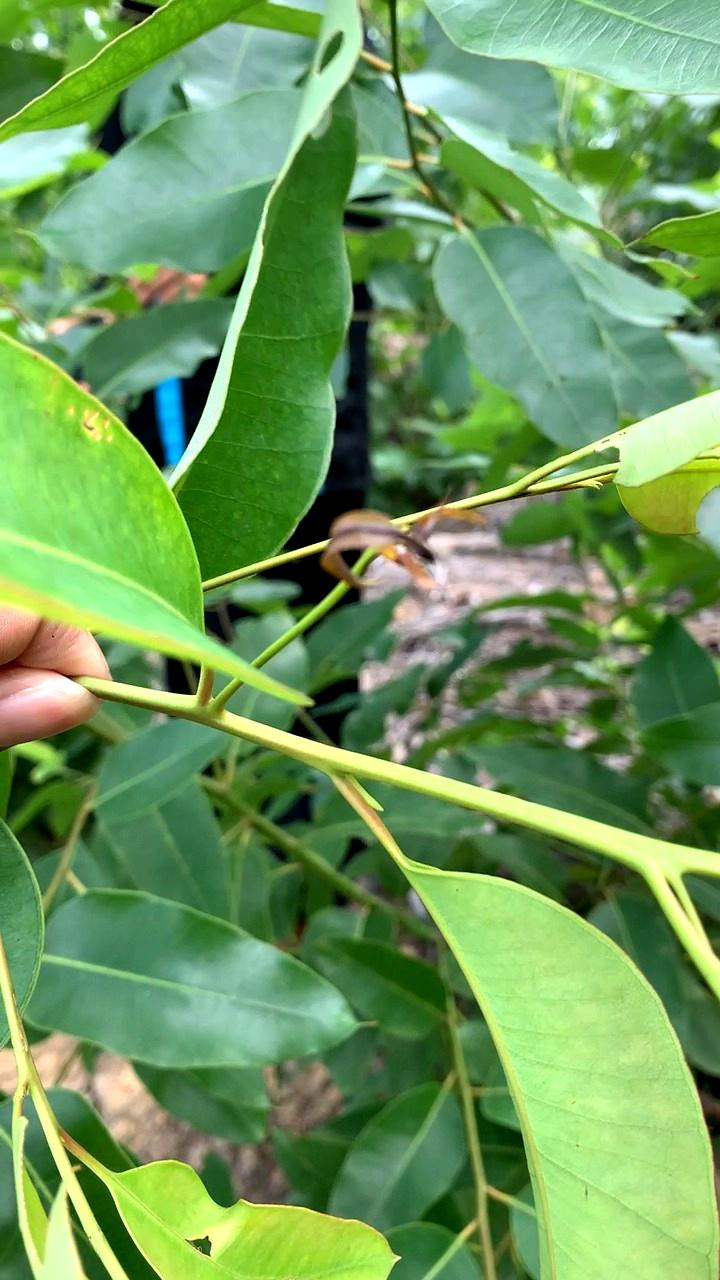Helopeltis-Withered Sprout: (313, 478, 488, 622)
